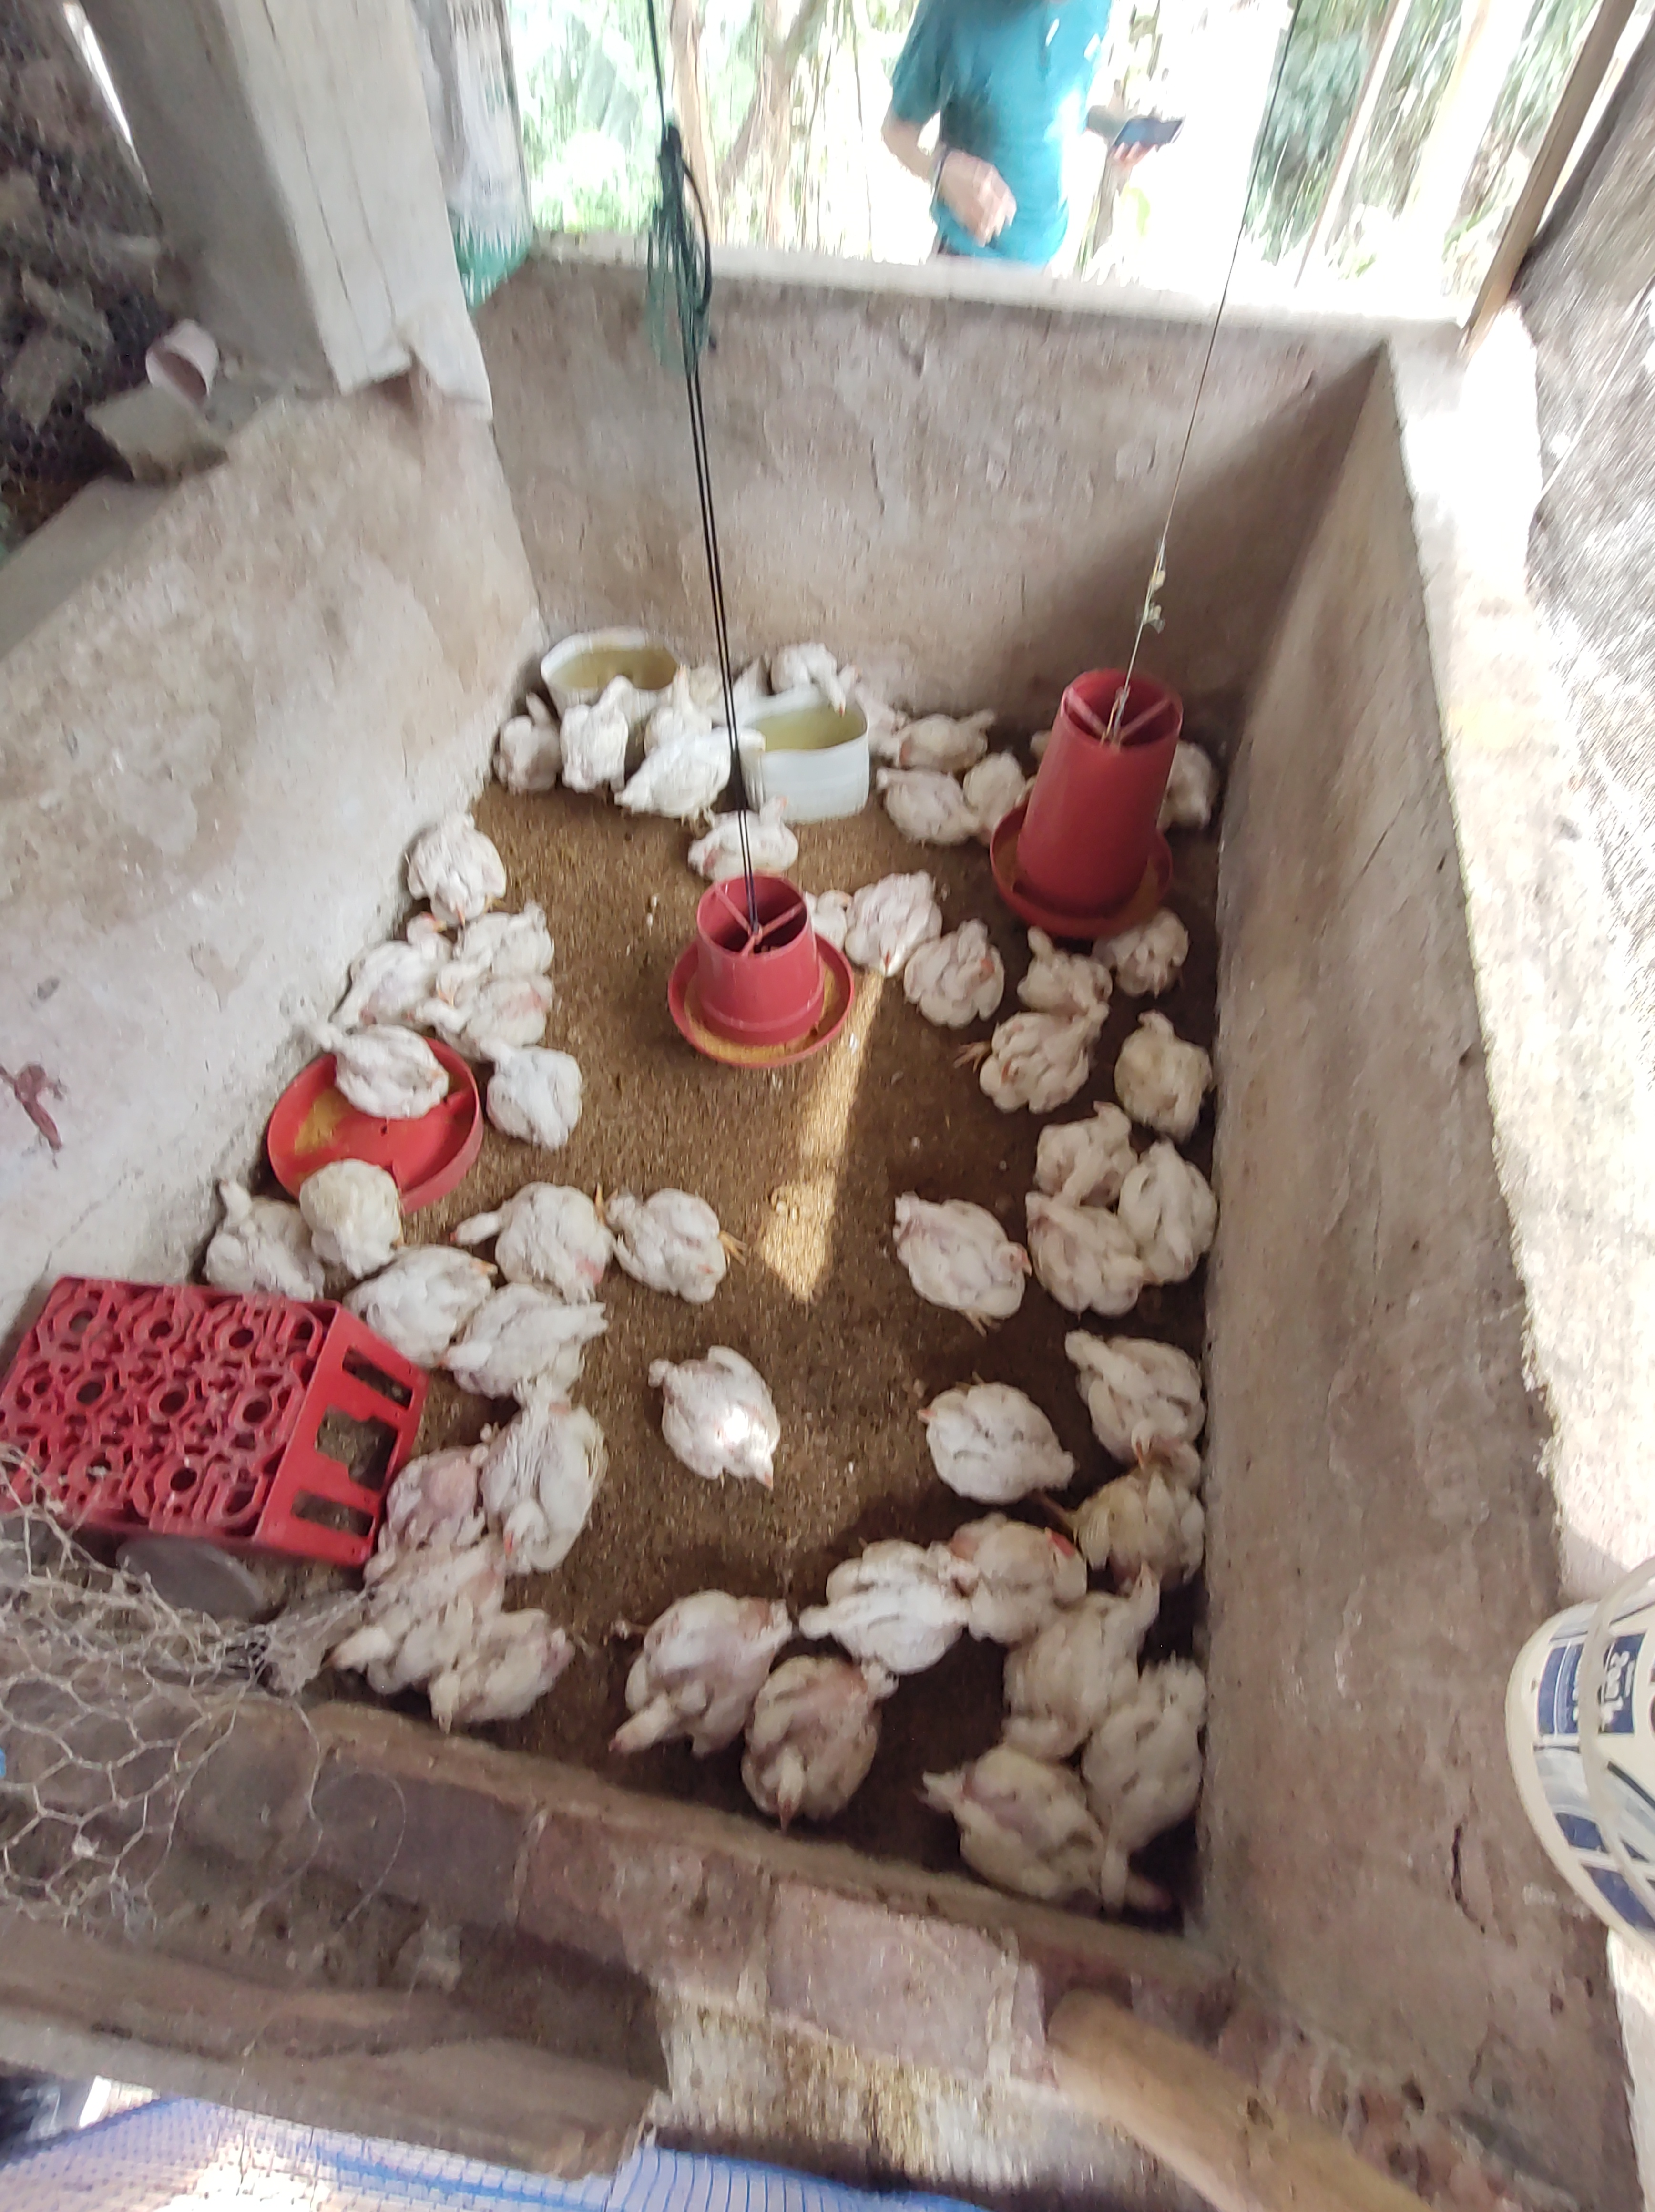Pollos: (1087, 1676, 1210, 1911), (607, 1603, 770, 1763), (914, 1741, 1080, 1894), (741, 1671, 888, 1824), (424, 1605, 568, 1741), (801, 1544, 961, 1662), (659, 1344, 781, 1492), (914, 1379, 1073, 1489), (482, 1414, 591, 1570), (631, 720, 772, 819), (909, 1212, 1031, 1320), (629, 1191, 739, 1299), (304, 1162, 400, 1278), (471, 1038, 577, 1139), (330, 1029, 452, 1116), (873, 765, 989, 856), (979, 1021, 1095, 1109), (431, 1184, 577, 1254), (355, 1497, 455, 1591), (431, 1322, 563, 1391), (998, 1515, 1088, 1610), (1045, 1096, 1135, 1191), (1146, 1139, 1212, 1269), (1127, 1009, 1208, 1113), (565, 673, 636, 788), (1095, 1555, 1172, 1656), (921, 927, 1007, 1016), (1066, 1236, 1160, 1315), (890, 699, 996, 765), (763, 642, 852, 718), (1029, 925, 1100, 1012), (320, 1610, 410, 1676), (433, 946, 527, 1009), (506, 685, 562, 788), (859, 883, 918, 979), (214, 1174, 275, 1254), (443, 829, 494, 922), (1127, 925, 1194, 993), (723, 788, 788, 857), (422, 1252, 504, 1304), (1161, 750, 1219, 821), (1111, 1400, 1160, 1475), (1158, 1429, 1208, 1490), (659, 661, 697, 741), (812, 883, 855, 932), (403, 911, 452, 948)
